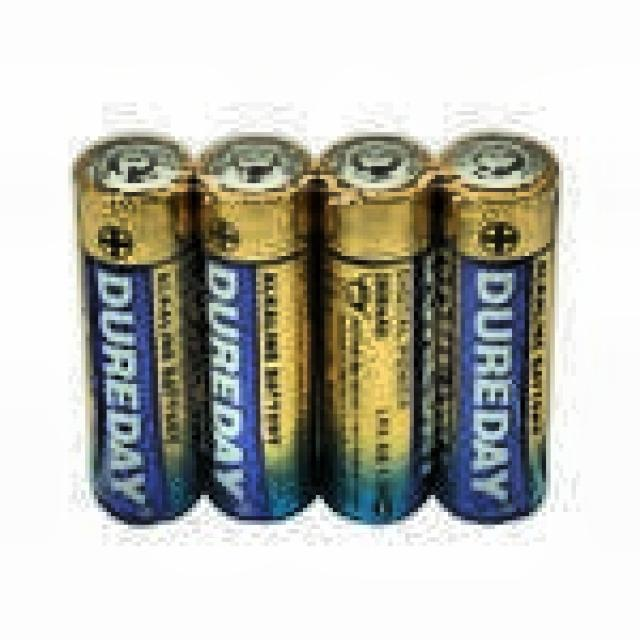Non-Valuable Waste - Batteries: (75, 135, 201, 522), (437, 133, 557, 522), (199, 136, 314, 519), (320, 135, 433, 522)
